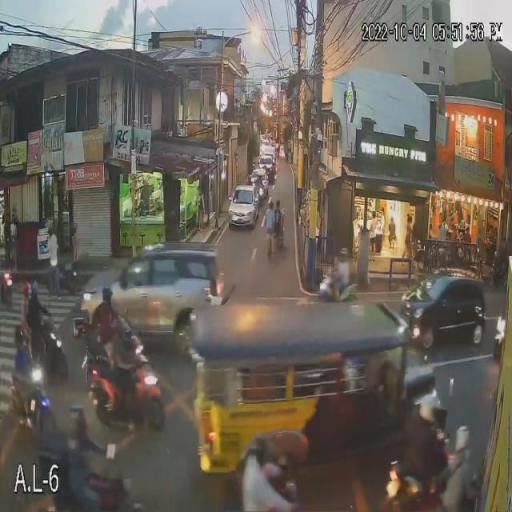helmet: (66, 396, 100, 444), (411, 396, 454, 431), (93, 279, 124, 311), (453, 426, 476, 455), (16, 281, 36, 300), (9, 328, 26, 346), (29, 280, 43, 298)
motorcycle: (34, 436, 164, 511), (87, 351, 180, 433), (377, 426, 448, 511), (5, 357, 68, 439), (24, 311, 81, 384)
rider: (393, 401, 446, 488), (60, 436, 118, 511), (90, 308, 139, 376), (446, 449, 486, 512), (15, 300, 38, 354), (27, 296, 54, 340), (16, 347, 36, 391)
